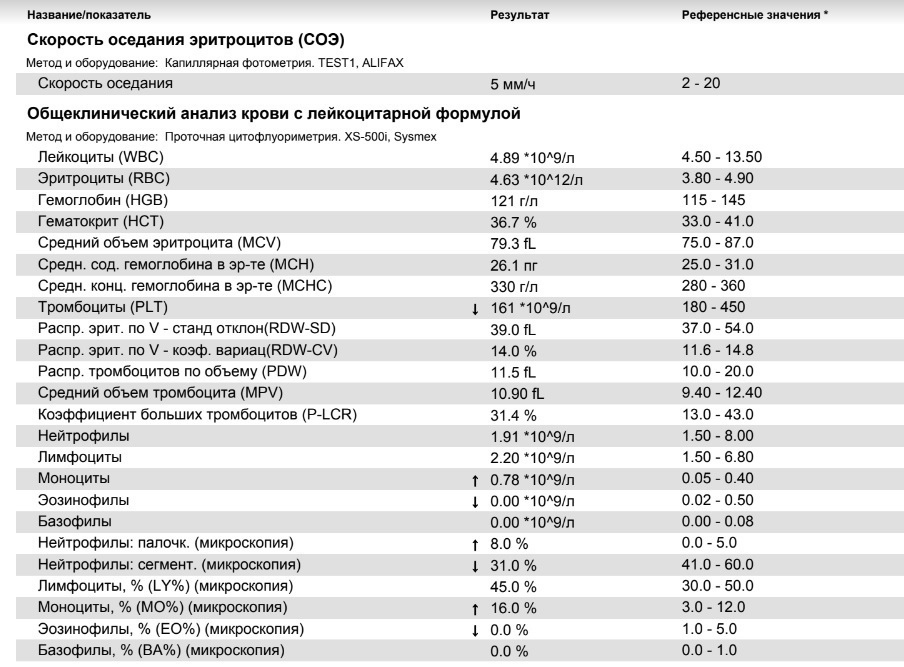column: (37, 145, 357, 659), (489, 145, 583, 659), (681, 145, 762, 659), (37, 76, 172, 91), (681, 9, 820, 21), (26, 9, 151, 21), (490, 9, 550, 21), (490, 76, 535, 91), (681, 76, 720, 91)
